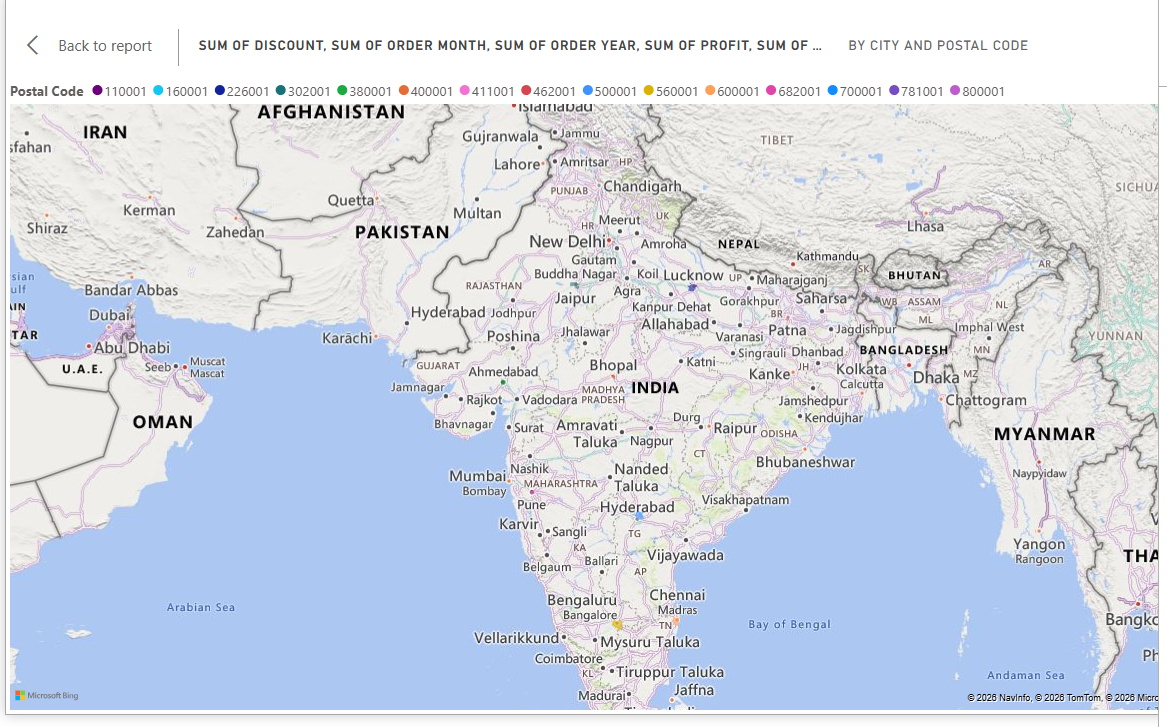

This screenshot's page, from the dashboard's own definition file:
{"tool":"powerbi","page":{"name":"Page 1","canvas":[1280,720],"ordinal":0},"visuals":[{"type":"filledMap","fields":{"Series":["Superstore_India.Postal Code"],"Category":["Superstore_India.City"]},"box":[10,0,280,280],"z":0}]}

Visuals, with their boxes on the page's 1280x720 design canvas (x1, y1, x2, y2). These are canvas units, not pixel positions in the 1167x727 screenshot, which may show the page scaled, cropped or inside an application window:
filledMap - Superstore_India.Postal Code x Superstore_India.City: x1=10, y1=0, x2=290, y2=280
